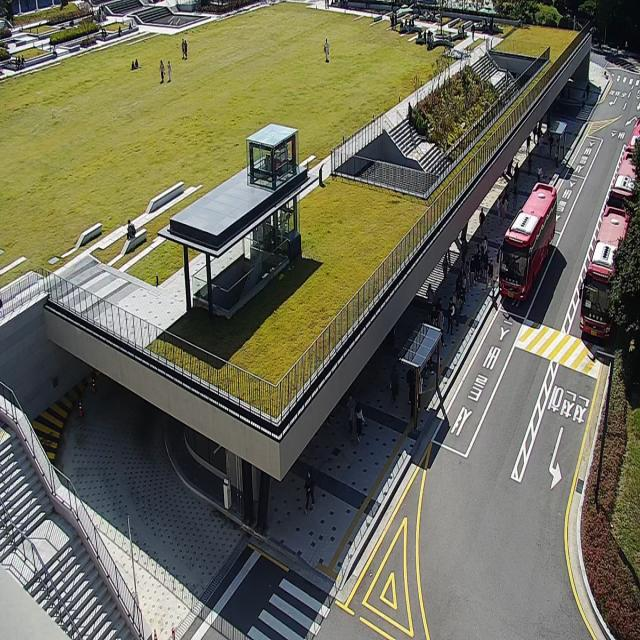queue: (412, 233, 490, 432)
